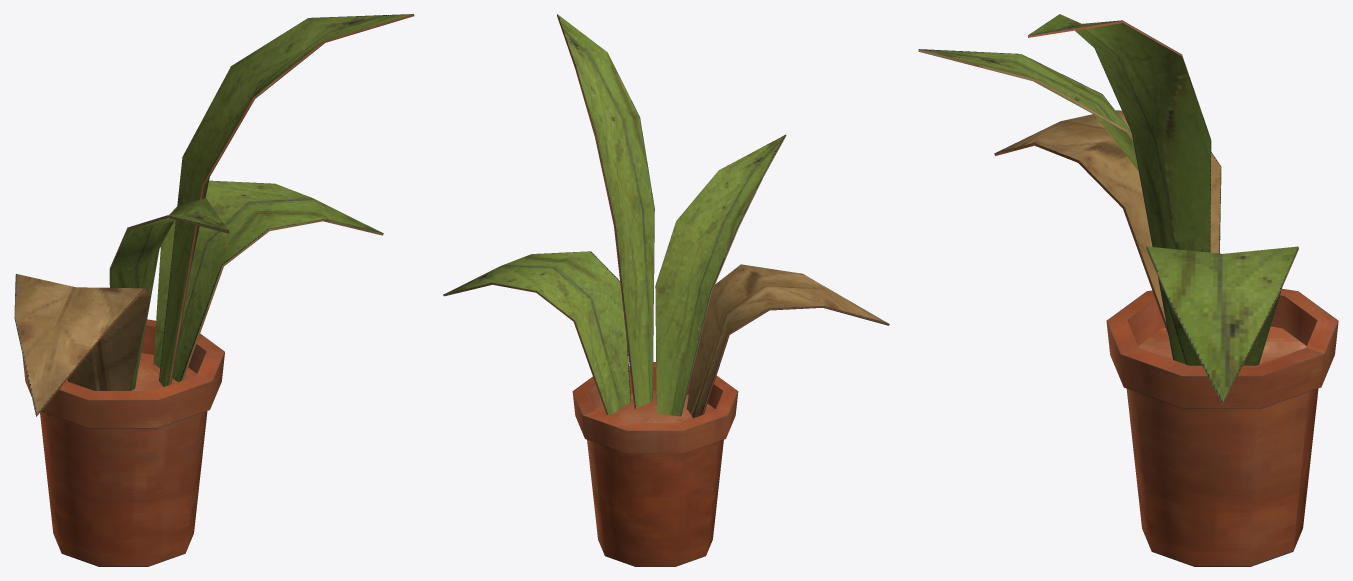
Rendered from SM_planta-nueva.fbx.
The picture shows the model from 3 angles, left to right: view 1: azimuth 30°, elevation 25°; view 2: azimuth 150°, elevation 25°; view 3: azimuth 270°, elevation 25°; orthographic projection. The views are drawn at different scales.
Parts seen in each view (by area): view 1: Object011; view 2: Object011; view 3: Object011.
Boxes of the visible parts, x1,y1,x2,y2 form: Object011: (14,14,414,566); Object011: (443,14,889,566); Object011: (918,14,1338,566).
Size of the model in its own units: 586 by 672 by 417.
